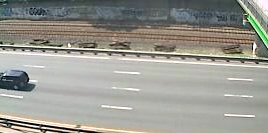car: (1, 68, 32, 92)
